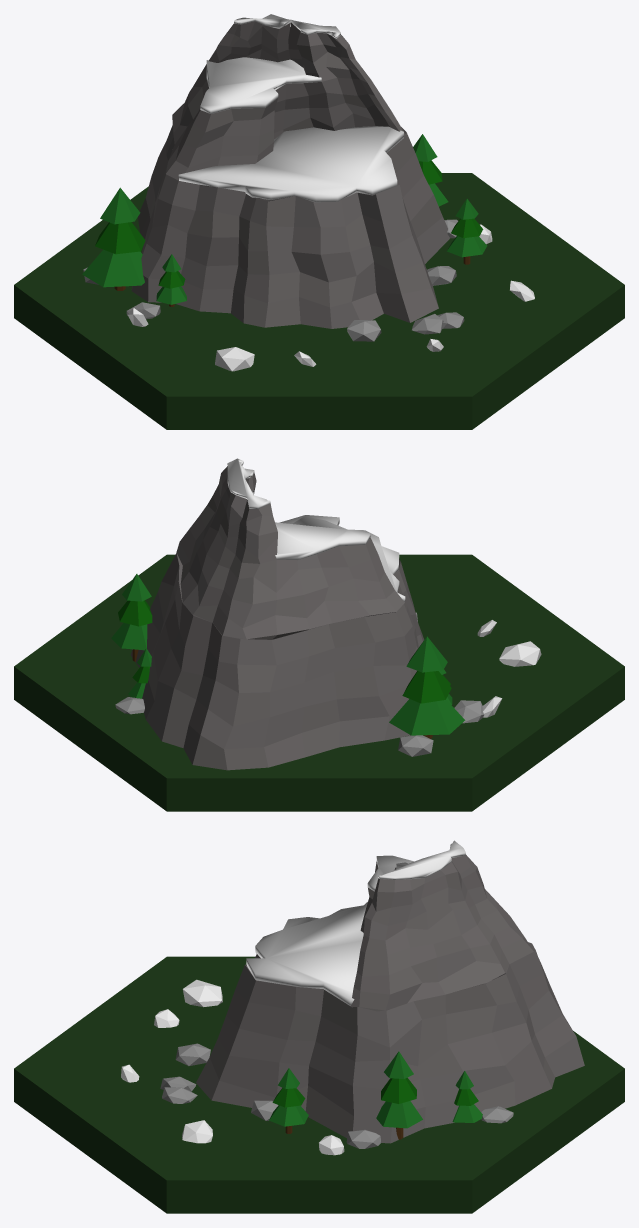
The model's file is mountain_tile_sprint2.glb.
3 renders of one model, top to bottom at view 1: azimuth 30°, elevation 25°; view 2: azimuth 150°, elevation 25°; view 3: azimuth 270°, elevation 25°, orthographic.
Parts seen in each view (by area): view 1: Cylinder, Plane, Plane.001, Plane.002, Low Poly Mountain Pine, Low Poly Mountain Pine.001, Plane.003, Low Poly Mountain Pine.002, Extra Low Poly Mountain Rock, Low Poly Mountain Pine.009, Icosphere.007; view 2: Cylinder, Plane, Plane.002, Low Poly Mountain Pine, Low Poly Mountain Pine.001, Plane.001, Plane.003, Low Poly Mountain Pine.002, Extra Low Poly Mountain Rock, Low Poly Mountain Pine.006, Low Poly Mountain Pine.007, Icosphere (+1 smaller); view 3: Cylinder, Plane, Plane.001, Plane.003, Low Poly Mountain Pine.006, Extra Low Poly Mountain Rock, Low Poly Mountain Pine.007, Low Poly Mountain Pine.009, Icosphere.007, Extra Low Poly Mountain Rock.002, Plane.002, Icosphere.003.
Part boxes in pixels (bbox=[...]): Cylinder: bbox=[14, 173, 624, 429]; Plane: bbox=[131, 21, 449, 328]; Plane.001: bbox=[178, 126, 403, 202]; Plane.002: bbox=[200, 57, 321, 113]; Low Poly Mountain Pine: bbox=[82, 249, 144, 287]; Low Poly Mountain Pine.001: bbox=[95, 222, 145, 254]; Plane.003: bbox=[234, 14, 340, 38]; Low Poly Mountain Pine.002: bbox=[100, 187, 140, 224]; Extra Low Poly Mountain Rock: bbox=[215, 347, 254, 371]; Low Poly Mountain Pine.009: bbox=[447, 236, 487, 257]; Icosphere.007: bbox=[347, 320, 381, 341]; Cylinder: bbox=[14, 554, 624, 811]; Plane: bbox=[130, 464, 424, 770]; Plane.002: bbox=[275, 516, 370, 559]; Low Poly Mountain Pine: bbox=[389, 699, 465, 735]; Low Poly Mountain Pine.001: bbox=[402, 671, 451, 703]; Plane.001: bbox=[279, 515, 405, 601]; Plane.003: bbox=[227, 458, 270, 508]; Low Poly Mountain Pine.002: bbox=[406, 636, 447, 672]; Extra Low Poly Mountain Rock: bbox=[499, 641, 541, 666]; Low Poly Mountain Pine.006: bbox=[111, 623, 147, 650]; Low Poly Mountain Pine.007: bbox=[118, 600, 152, 626]; Icosphere: bbox=[398, 735, 433, 756]; Cylinder: bbox=[14, 956, 624, 1213]; Plane: bbox=[196, 855, 584, 1143]; Plane.001: bbox=[246, 902, 367, 1005]; Plane.003: bbox=[378, 840, 465, 879]; Low Poly Mountain Pine.006: bbox=[376, 1101, 422, 1128]; Extra Low Poly Mountain Rock: bbox=[182, 979, 222, 1007]; Low Poly Mountain Pine.007: bbox=[381, 1077, 416, 1103]; Low Poly Mountain Pine.009: bbox=[269, 1105, 308, 1126]; Icosphere.007: bbox=[175, 1043, 210, 1065]; Extra Low Poly Mountain Rock.002: bbox=[182, 1120, 212, 1143]; Plane.002: bbox=[367, 855, 413, 891]; Icosphere.003: bbox=[346, 1129, 380, 1148].
Bounding box in the file's own units: 4.33 × 2.3 × 5.
